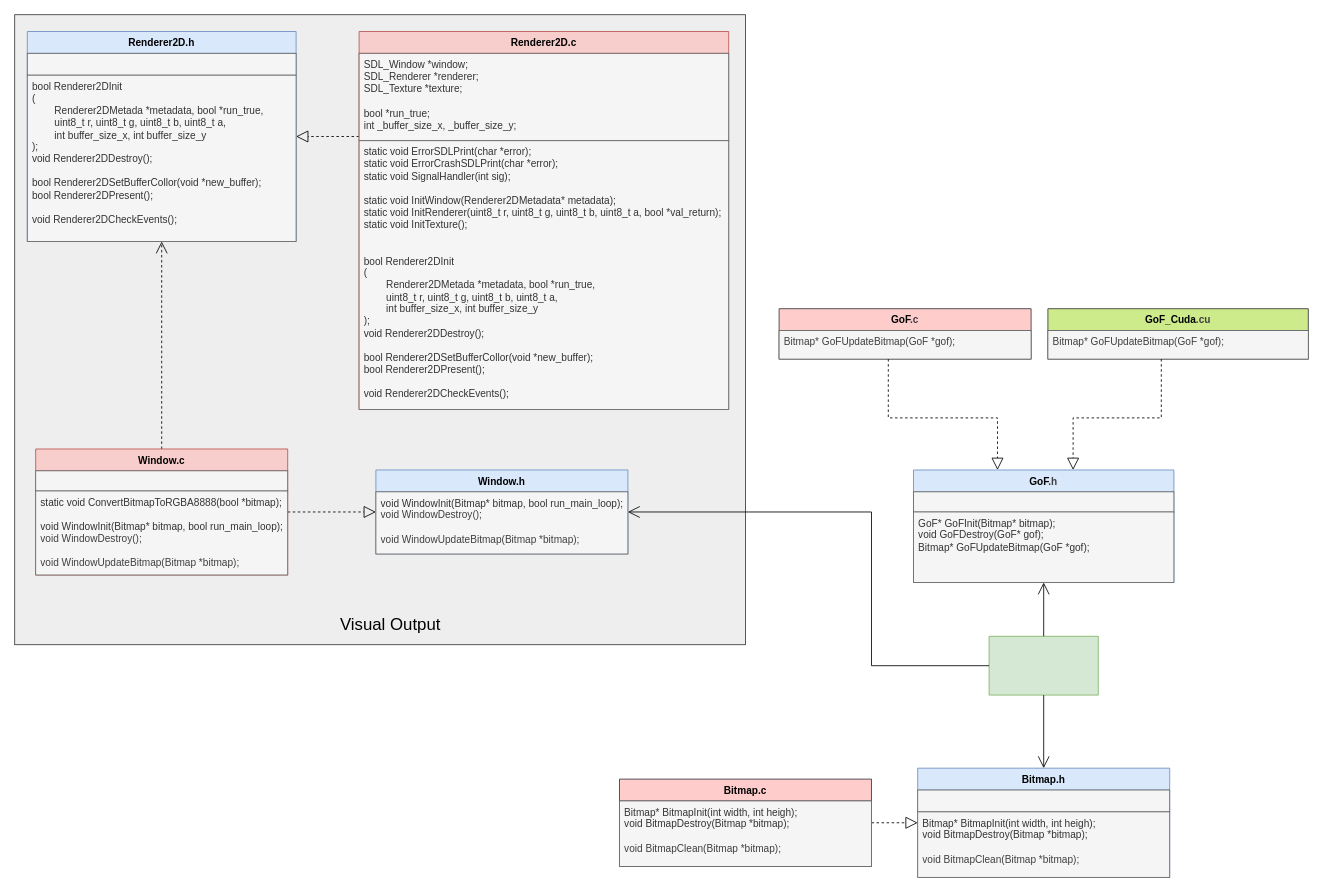
Some shapes in this 1323 by 895 pixel diagram are drawn without their labels. The shapes that lost their labels are listed below. From the top down, each one's centre as x and y in pixels, then its label:
point 161,63: typedef struct Render2DMetadata
point 161,480: static uint32_t *rgba8888;
point 1043,501: typedef struct GoF
point 1043,665: main
point 1043,800: typedef struct Bitmap;
